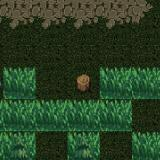Obstacle: (66, 67, 99, 100)
Slow: (0, 99, 132, 131), (99, 67, 160, 99), (2, 67, 36, 100), (0, 131, 36, 160), (67, 131, 100, 160), (132, 131, 160, 160)
